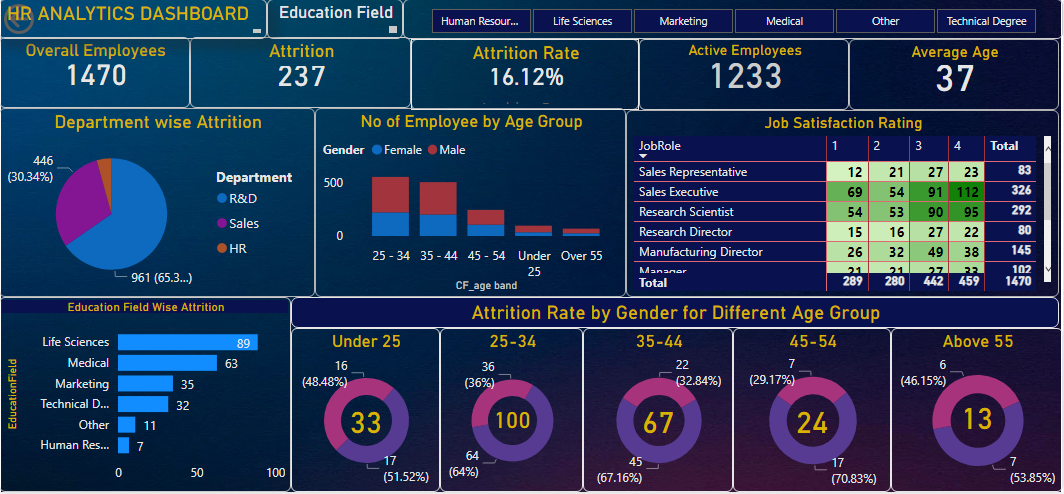

Layout of this report page (visuals, bound fields, positions):
{"tool":"powerbi","page":{"name":"Page 1","canvas":[1064,493],"ordinal":0},"visuals":[{"type":"card","title":"Overall Employees","fields":{"Values":["Sum(WA_Fn-UseC_-HR-Employee-Attriti.EmployeeCount)"]},"box":[0,38,191,71],"z":0},{"type":"card","title":"Attrition","fields":{"Values":["Sum(HR Data.Attrition Count)"]},"box":[191,38,221,71],"z":1000},{"type":"card","title":"Attrition Rate","fields":{"Values":["HR Data.Attrition Rate"]},"box":[412,40,228,71],"z":2000},{"type":"card","title":"Active Employees","fields":{"Values":["HR Data.Active Employees"]},"box":[640,40,210,71],"z":3000},{"type":"card","title":"Average Age","fields":{"Values":["Avg(HR Data.Age)"]},"box":[850,40,210,71],"z":4000},{"type":"pieChart","title":"Department wise Attrition","fields":{"Category":["HR Data.Department"],"Y":["Sum(HR Data.EmployeeCount)"]},"box":[0,109,316,189],"z":5000},{"type":"columnChart","title":"No of Employee by Age Group","fields":{"Category":["HR Data.CF_age band"],"Y":["Sum(HR Data.EmployeeCount)"],"Series":["HR Data.Gender"]},"box":[316,109,311,189],"z":6000},{"type":"pivotTable","title":"Job Satisfaction Rating","fields":{"Rows":["HR Data.JobRole"],"Columns":["HR Data.JobSatisfaction"],"Values":["Sum(HR Data.EmployeeCount)"]},"box":[627,111,433,187],"z":7000},{"type":"actionButton","box":[0,0,100,40],"z":8000},{"type":"barChart","title":"Education Field Wise Attrition","fields":{"Category":["HR Data.EducationField"],"Y":["Sum(HR Data.Attrition Count)"]},"box":[0,298,292,195],"z":9000},{"type":"donutChart","title":"Under 25","fields":{"Category":["HR Data.Gender"],"Y":["Sum(HR Data.Attrition Count)"],"Series":["HR Data.CF_age band"]},"box":[292,329,149,164],"z":10000},{"type":"donutChart","title":"25-34","fields":{"Category":["HR Data.Gender"],"Y":["Sum(HR Data.Attrition Count)"],"Series":["HR Data.CF_age band"]},"box":[441,329,143,164],"z":11000},{"type":"donutChart","title":"35-44","fields":{"Category":["HR Data.Gender"],"Y":["Sum(HR Data.Attrition Count)"],"Series":["HR Data.CF_age band"]},"box":[584,329,150,164],"z":12000},{"type":"donutChart","title":"45-54","fields":{"Category":["HR Data.Gender"],"Y":["Sum(HR Data.Attrition Count)"],"Series":["HR Data.CF_age band"]},"box":[734,329,158,164],"z":13000},{"type":"textbox","title":"HR ANALYTICS DASHBOARD","box":[0,0,268,40],"z":14000},{"type":"textbox","title":"Education Field","box":[268,0,136,40],"z":15000},{"type":"slicer","fields":{"Values":["HR Data.EducationField"]},"box":[404,0,660,40],"z":16000},{"type":"textbox","title":"Attrition Rate  by Gender for Different Age Group","box":[292,298,768,31],"z":17000},{"type":"donutChart","title":"Above 55","fields":{"Category":["HR Data.Gender"],"Y":["Sum(HR Data.Attrition Count)"],"Series":["HR Data.CF_age band"]},"box":[892,329,172,164],"z":18000},{"type":"card","fields":{"Values":["Sum(HR Data.Attrition Count)"]},"box":[332,396,70,50],"z":19000},{"type":"card","fields":{"Values":["Sum(HR Data.Attrition Count)"]},"box":[778,396,70,50],"z":20000},{"type":"card","fields":{"Values":["Sum(HR Data.Attrition Count)"]},"box":[624,396,70,50],"z":21000},{"type":"card","fields":{"Values":["Sum(HR Data.Attrition Count)"]},"box":[480,399,66,43],"z":22000},{"type":"card","fields":{"Values":["Sum(HR Data.Attrition Count)"]},"box":[943,392,70,50],"z":23000}]}

Visuals, with their boxes in screenshot pixels (x1, y1, x2, y2), scaled from the page's 1064x493 canvas onto the 1064x494 screenshot:
"Overall Employees" card: (0, 38, 191, 109)
"Attrition" card: (191, 38, 412, 109)
"Attrition Rate" card: (412, 40, 640, 111)
"Active Employees" card: (640, 40, 850, 111)
"Average Age" card: (850, 40, 1060, 111)
"Department wise Attrition" pieChart: (0, 109, 316, 299)
"No of Employee by Age Group" columnChart: (316, 109, 627, 299)
"Job Satisfaction Rating" pivotTable: (627, 111, 1060, 299)
actionButton: (0, 0, 100, 40)
"Education Field Wise Attrition" barChart: (0, 299, 292, 493)
"Under 25" donutChart: (292, 330, 441, 493)
"25-34" donutChart: (441, 330, 584, 493)
"35-44" donutChart: (584, 330, 734, 493)
"45-54" donutChart: (734, 330, 892, 493)
"HR ANALYTICS DASHBOARD" textbox: (0, 0, 268, 40)
"Education Field" textbox: (268, 0, 404, 40)
slicer - HR Data.EducationField: (404, 0, 1063, 40)
"Attrition Rate  by Gender for Different Age Group" textbox: (292, 299, 1060, 330)
"Above 55" donutChart: (892, 330, 1063, 493)
card - Sum(HR Data.Attrition Count): (332, 397, 402, 447)
card - Sum(HR Data.Attrition Count): (778, 397, 848, 447)
card - Sum(HR Data.Attrition Count): (624, 397, 694, 447)
card - Sum(HR Data.Attrition Count): (480, 400, 546, 443)
card - Sum(HR Data.Attrition Count): (943, 393, 1013, 443)
